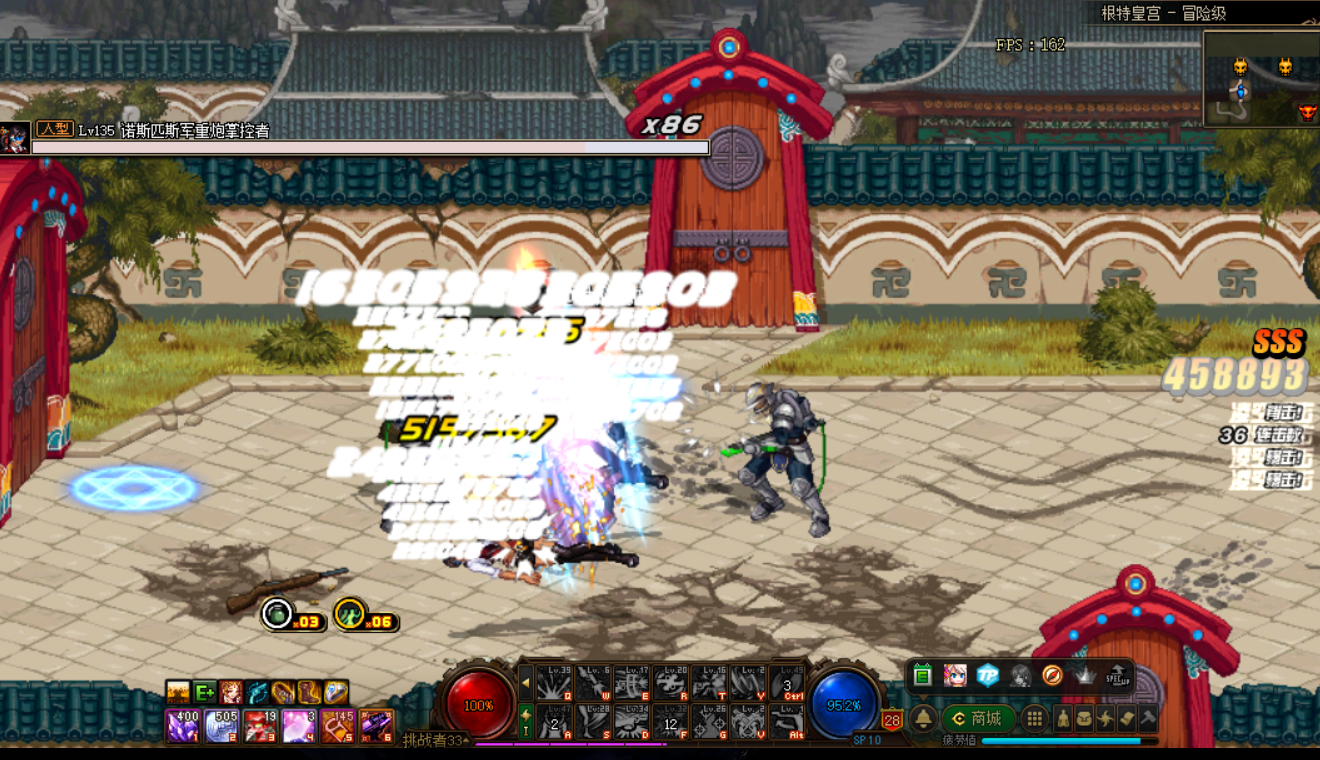monster: (715, 380, 846, 530), (415, 521, 645, 586)
